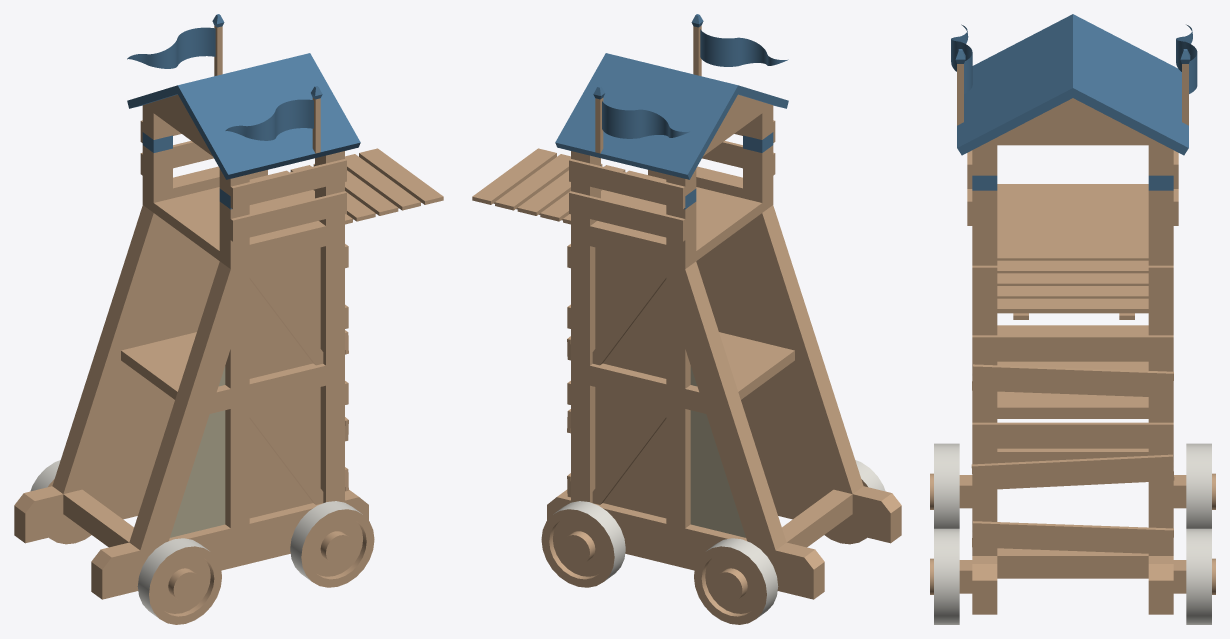
The model's file is siegeTower.fbx.
3 views of the same model, side by side, from view 1: azimuth 30°, elevation 25°; view 2: azimuth 150°, elevation 25°; view 3: azimuth 270°, elevation 25° (orthographic). The views are drawn at different scales.
Visible parts, largest first — view 1: body 8, wheelBackRight 10, wheelFrontRight 13, bridge 4, flag 25, flag 24, wheelBackLeft 10; view 2: body 8, wheelBackLeft 10, wheelFrontLeft 13, bridge 4, flag 24, flag 25, wheelBackRight 10; view 3: body 8, bridge 4, wheelFrontLeft 13, wheelFrontRight 13, wheelBackLeft 10, wheelBackRight 10, flag 25, flag 24.
Boxes of the visible parts, <box> form: body 8: <box>14,53,368,599</box>; wheelBackRight 10: <box>137,538,221,624</box>; wheelFrontRight 13: <box>290,501,374,587</box>; bridge 4: <box>268,148,443,224</box>; flag 25: <box>225,86,322,153</box>; flag 24: <box>127,14,224,76</box>; wheelBackLeft 10: <box>30,460,91,544</box>; body 8: <box>547,53,901,599</box>; wheelBackLeft 10: <box>694,538,778,624</box>; wheelFrontLeft 13: <box>541,501,625,587</box>; bridge 4: <box>472,148,647,224</box>; flag 24: <box>593,86,689,153</box>; flag 25: <box>691,14,788,76</box>; wheelBackRight 10: <box>824,460,885,544</box>; body 8: <box>957,14,1188,614</box>; bridge 4: <box>997,248,1148,319</box>; wheelFrontLeft 13: <box>1186,528,1215,624</box>; wheelFrontRight 13: <box>930,528,959,624</box>; wheelBackLeft 10: <box>1186,443,1215,528</box>; wheelBackRight 10: <box>930,443,959,528</box>; flag 25: <box>951,24,972,125</box>; flag 24: <box>1176,24,1197,125</box>.
Bounding box in the file's own units: 19.62 × 25.98 × 11.91.
